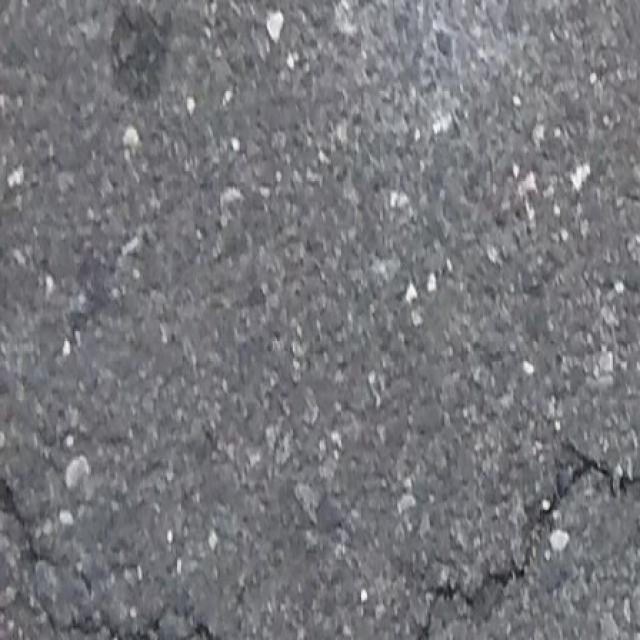Alligator Crack: (399, 431, 640, 640), (0, 468, 225, 640)
